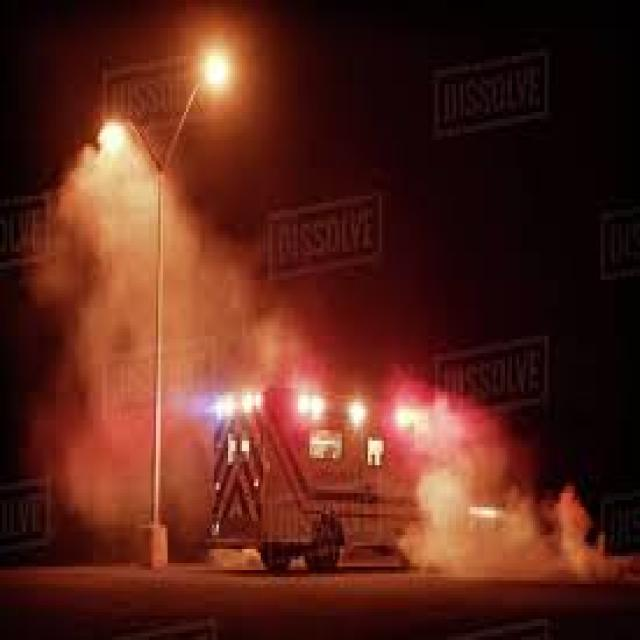Smoke: (32, 124, 296, 544), (387, 381, 617, 583)
